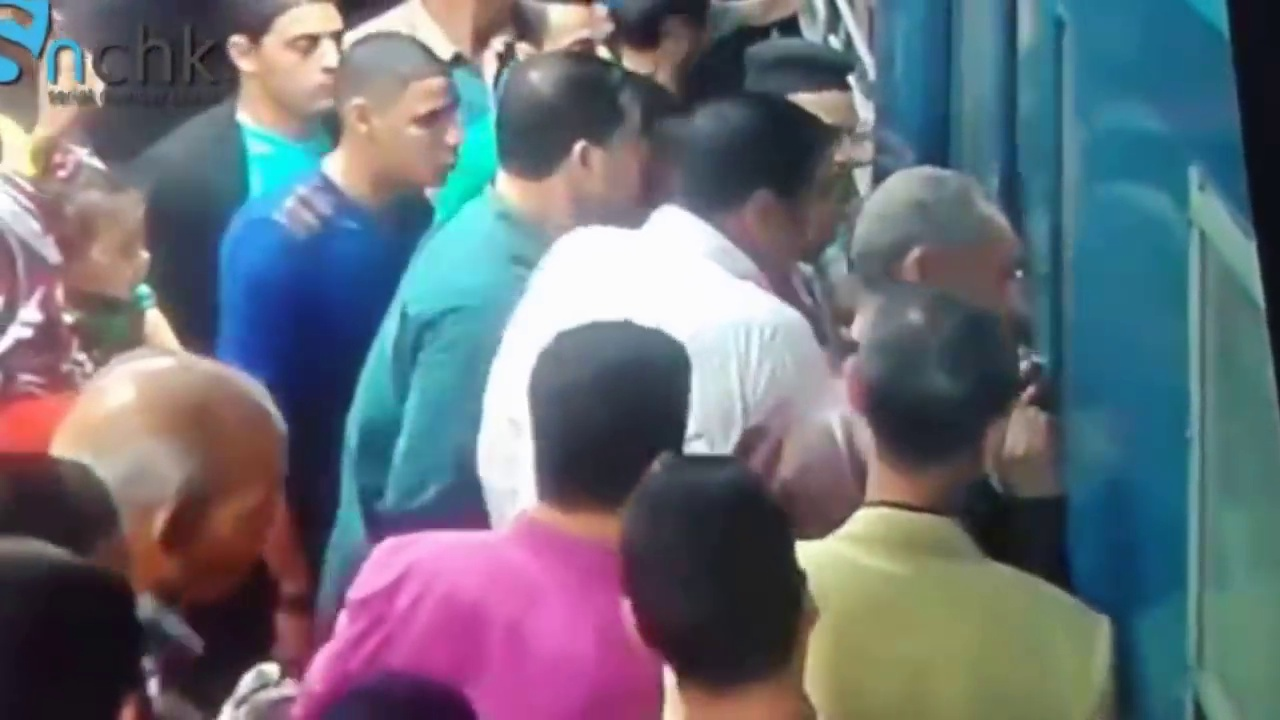face: (251, 14, 335, 115), (381, 96, 465, 188)
